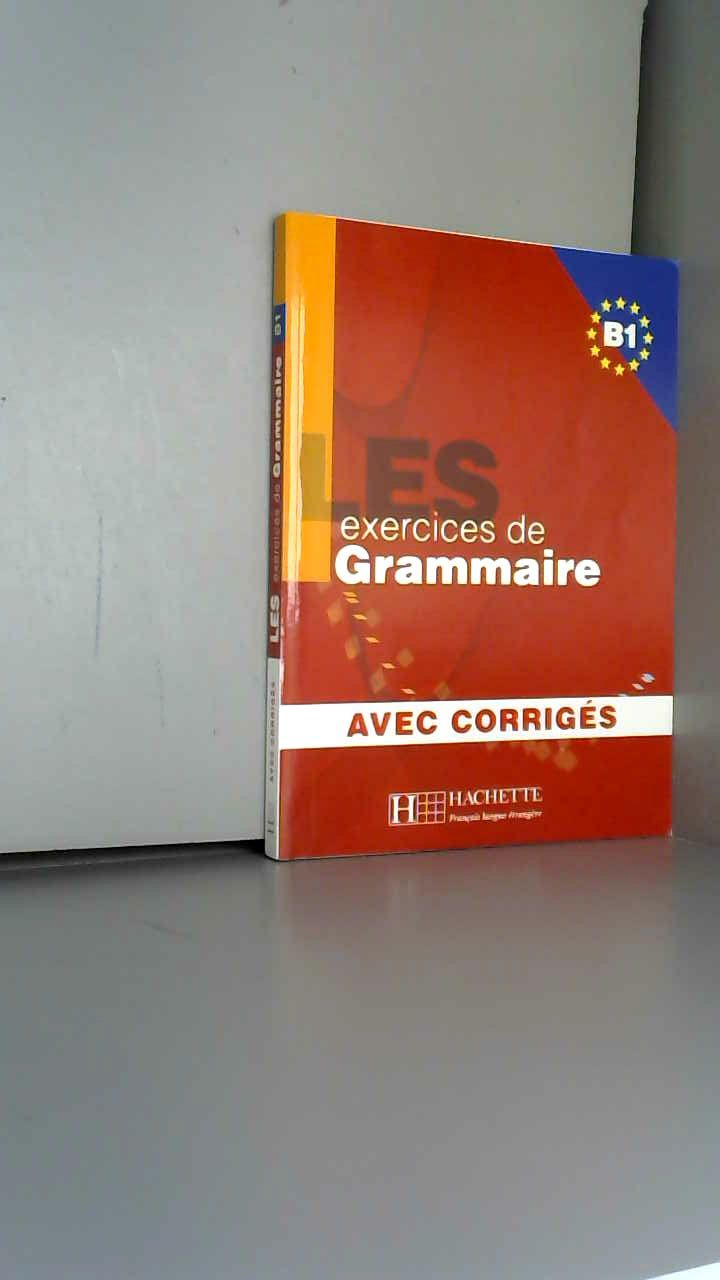book: (240, 180, 720, 869)
